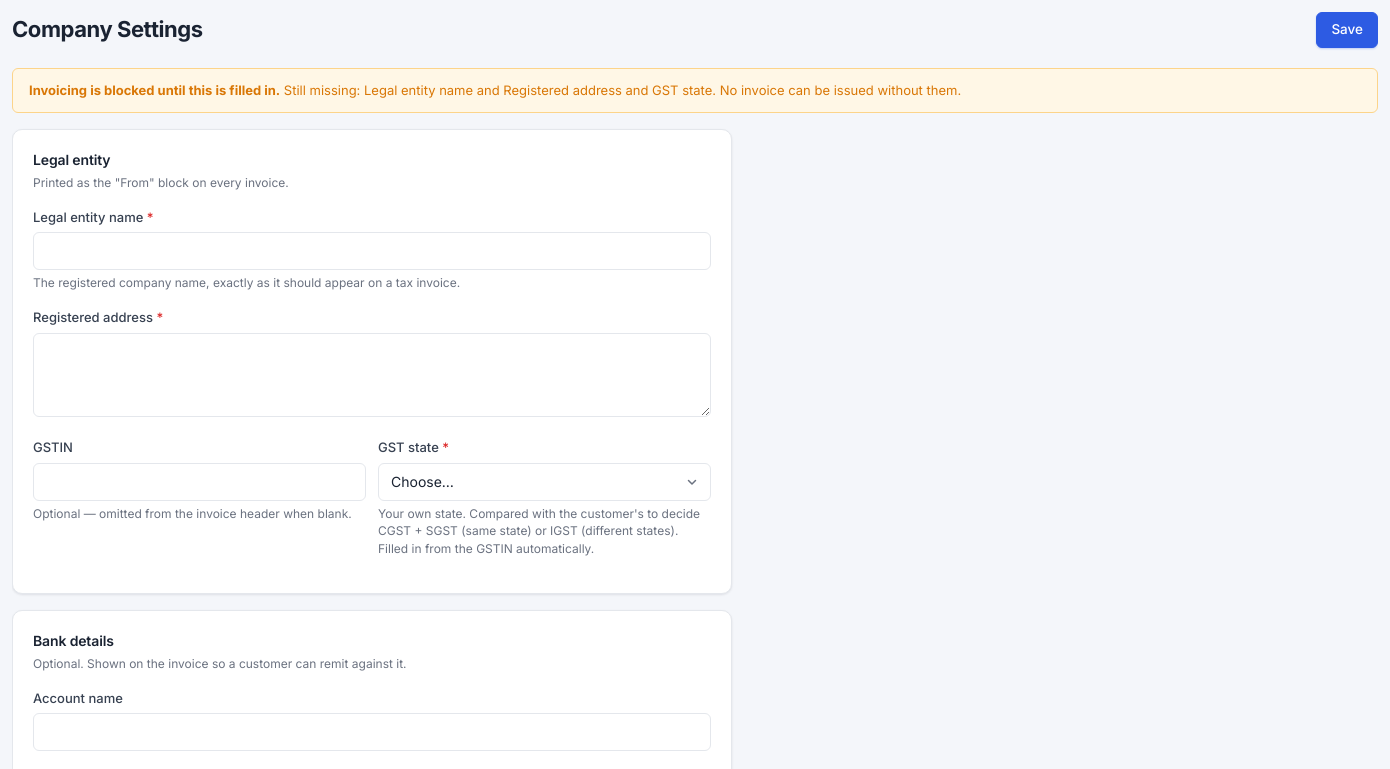
Test: AdminCompanySettingsComponent › surfaces a ProblemDetails detail from a failed save
The width and height of the screenshot is (1390, 769).
Type "M2C Sourcing Pvt Ltd" into the field with id "cs-legal-name" at (372, 251), box [33,232,711,270]
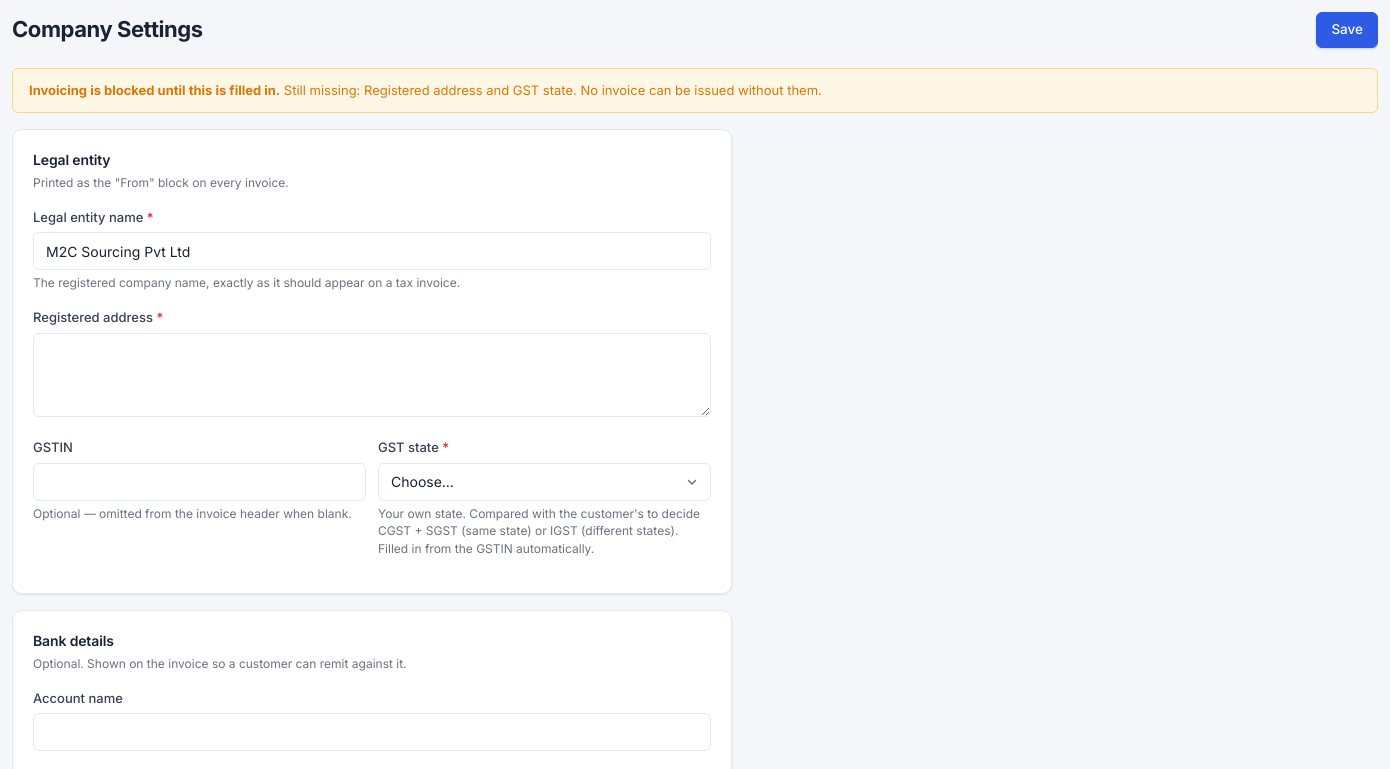
Type "123 Industrial Estate, Surat, Gujarat" into the text box with id "cs-address" at (372, 375), box [33,333,711,417]
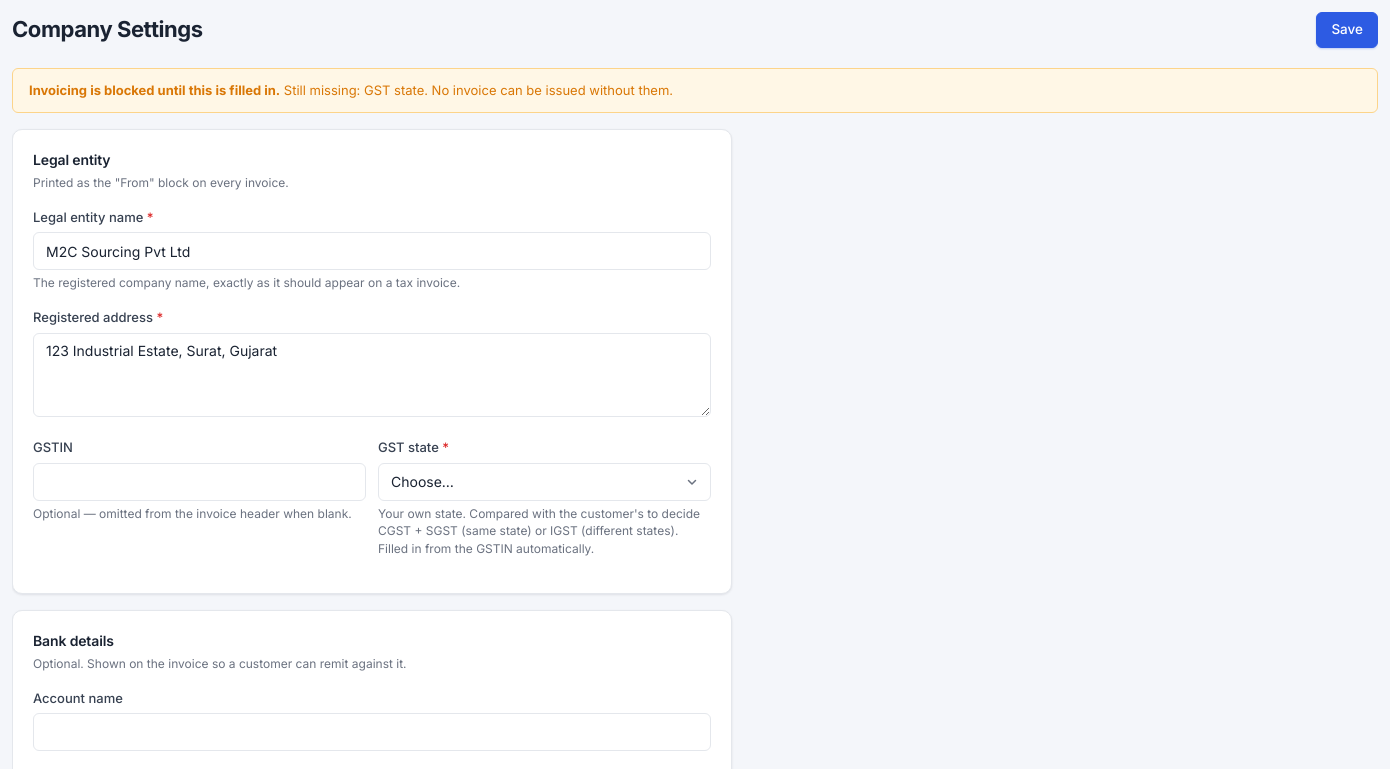
Select "24 — Gujarat" in the dropdown with id "cs-state" at (544, 482), box [378,463,711,501]
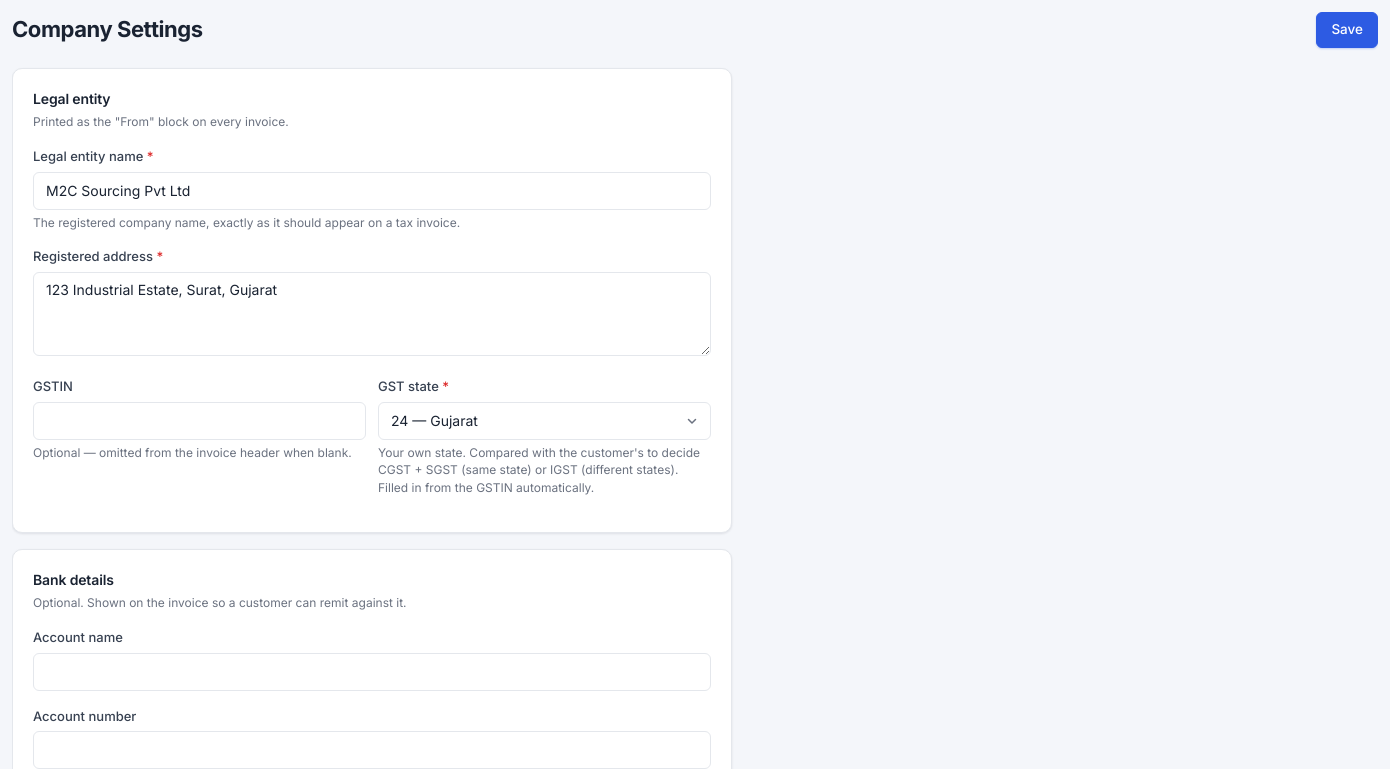
Click the button "Save" at (1347, 30), box [1316,12,1378,48]
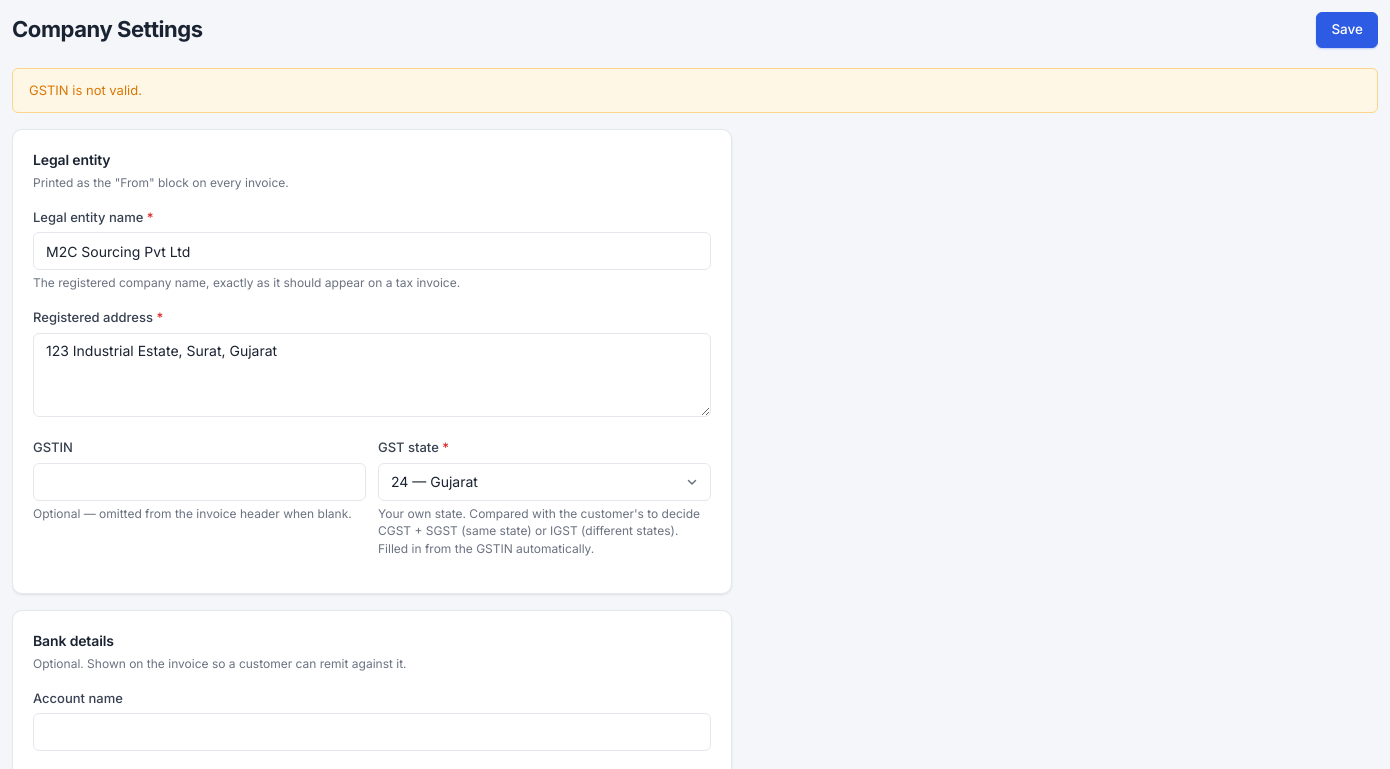
Now the text "GSTIN is not valid." is shown, box [12,68,1378,113]
